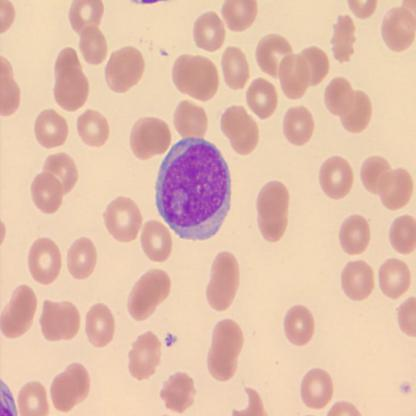Blast: (154, 133, 234, 241)
